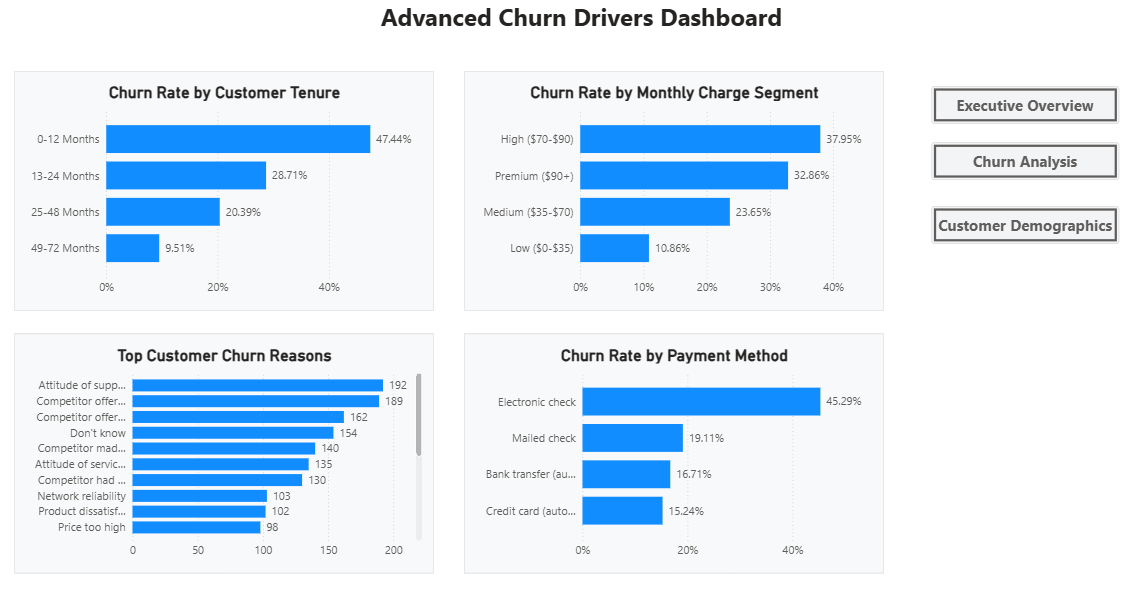

The dashboard page shown, as its layout file describes it:
{"tool":"powerbi","page":{"name":"Advanced Churn Drivers","canvas":[1600,900],"ordinal":2},"visuals":[{"type":"textbox","box":[10,0,280,280],"z":0},{"type":"textbox","box":[10,580,280,280],"z":1000},{"type":"clusteredBarChart","title":"Churn Rate by Customer Tenure","fields":{"Category":["Customer Churn.Tenure Group"],"Y":["Measures (2).Churn Rate %"]},"box":[40,100,560,320],"z":2000},{"type":"textbox","box":[0,0,1600,66.7],"z":3000},{"type":"clusteredBarChart","title":"Churn Rate by Monthly Charge Segment","fields":{"Category":["Customer Churn.Monthly Charge Group"],"Y":["Measures (2).Churn Rate %"]},"box":[640,100,560,320],"z":4000},{"type":"clusteredBarChart","title":"Top Customer Churn Reasons","fields":{"Category":["Customer Churn.Churn Reason"],"Y":["CountNonNull(Customer Churn.CustomerID)"]},"box":[40,450,560,320],"z":5000},{"type":"clusteredBarChart","title":"Churn Rate by Payment Method","fields":{"Category":["Customer Churn.Payment Method"],"Y":["Measures (2).Churn Rate %"]},"box":[640,450,560,320],"z":6000},{"type":"actionButton","box":[1263.3,120,250,50],"z":6001},{"type":"actionButton","box":[1263.3,195,250,50],"z":6002},{"type":"actionButton","box":[1263.3,280,250,50],"z":6003}]}

Visuals, with their boxes on the page's 1600x900 design canvas (x1, y1, x2, y2). These are canvas units, not pixel positions in the 1130x597 screenshot, which may show the page scaled, cropped or inside an application window:
textbox: region(10, 0, 290, 280)
textbox: region(10, 580, 290, 860)
"Churn Rate by Customer Tenure" clusteredBarChart: region(40, 100, 600, 420)
textbox: region(0, 0, 1600, 67)
"Churn Rate by Monthly Charge Segment" clusteredBarChart: region(640, 100, 1200, 420)
"Top Customer Churn Reasons" clusteredBarChart: region(40, 450, 600, 770)
"Churn Rate by Payment Method" clusteredBarChart: region(640, 450, 1200, 770)
actionButton: region(1263, 120, 1513, 170)
actionButton: region(1263, 195, 1513, 245)
actionButton: region(1263, 280, 1513, 330)
